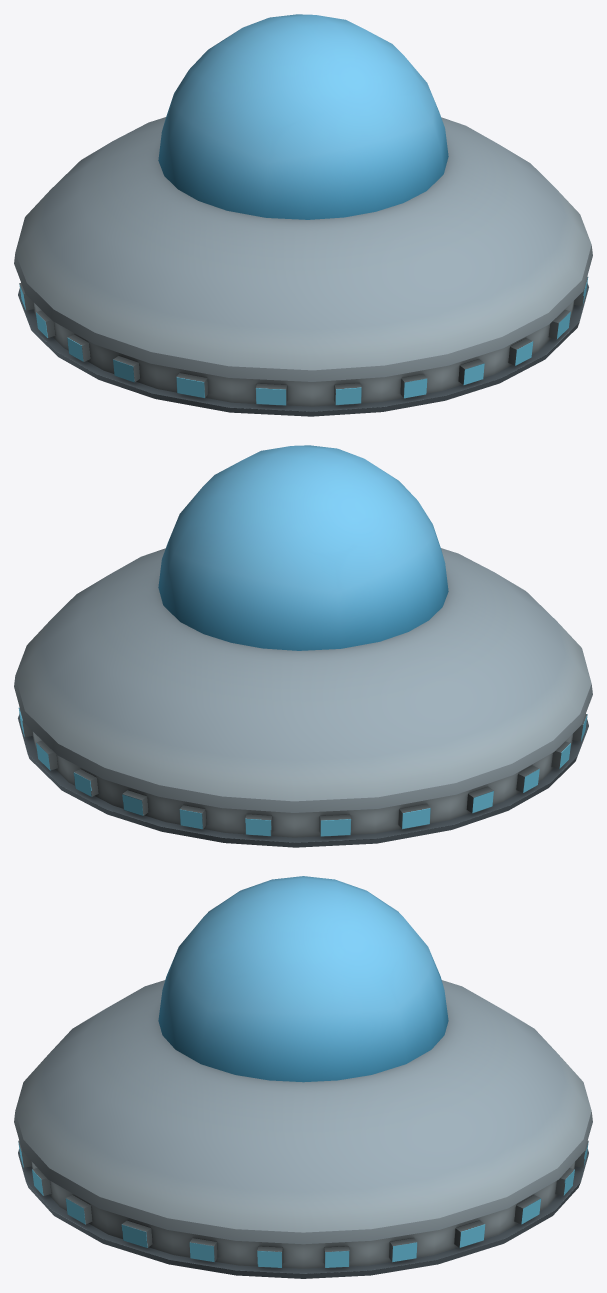
Rendered from ufo.gltf.
The picture shows the model from 3 angles, top to bottom: view 1: azimuth 30°, elevation 25°; view 2: azimuth 150°, elevation 25°; view 3: azimuth 270°, elevation 25°; orthographic projection.
Visible parts, largest first — view 1: UFO.005; view 2: UFO.005; view 3: UFO.005.
Part boxes in pixels (box(x1,y1,x2,y2)): UFO.005: box(14, 14, 592, 416); UFO.005: box(14, 445, 592, 847); UFO.005: box(14, 876, 592, 1278).
Bounding box in the file's own units: 548 × 314 × 548.
1 material, 1 textured.
